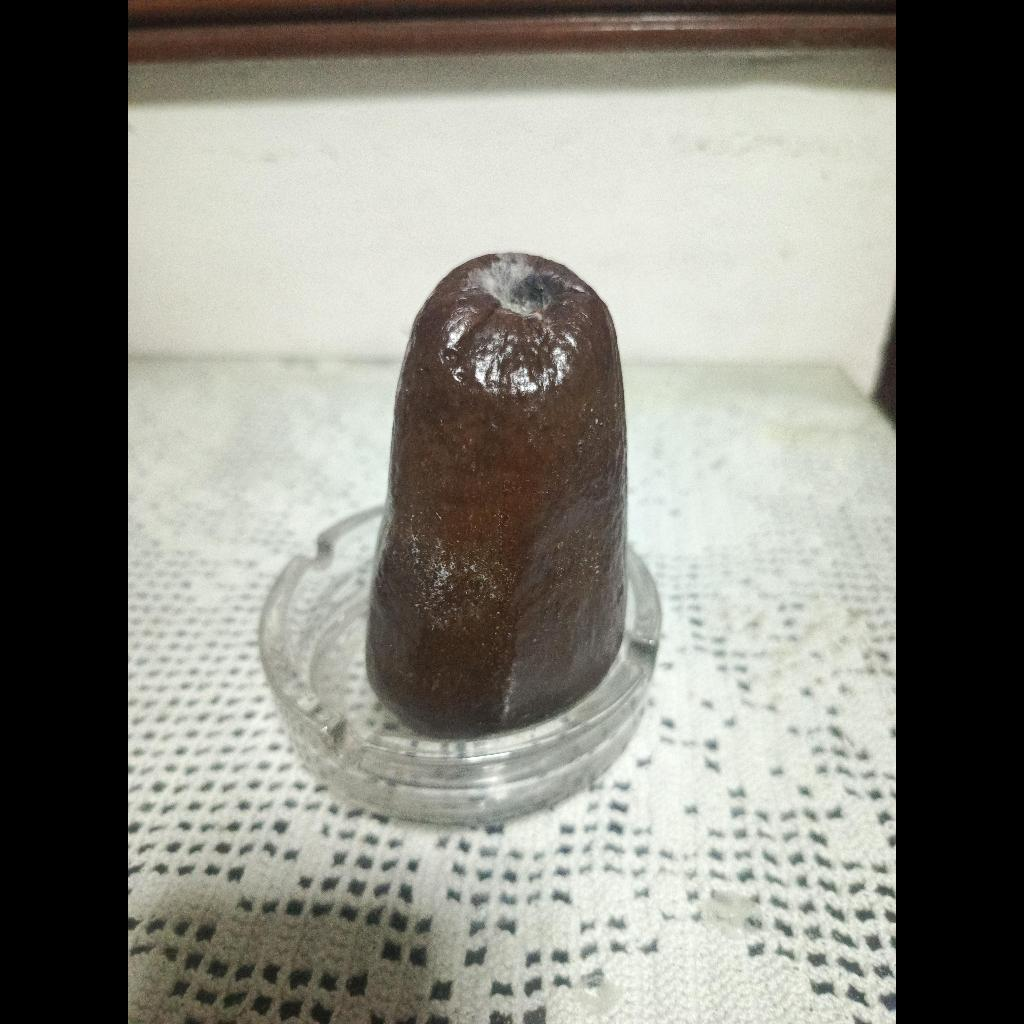stem end rot: (366, 253, 626, 737)
